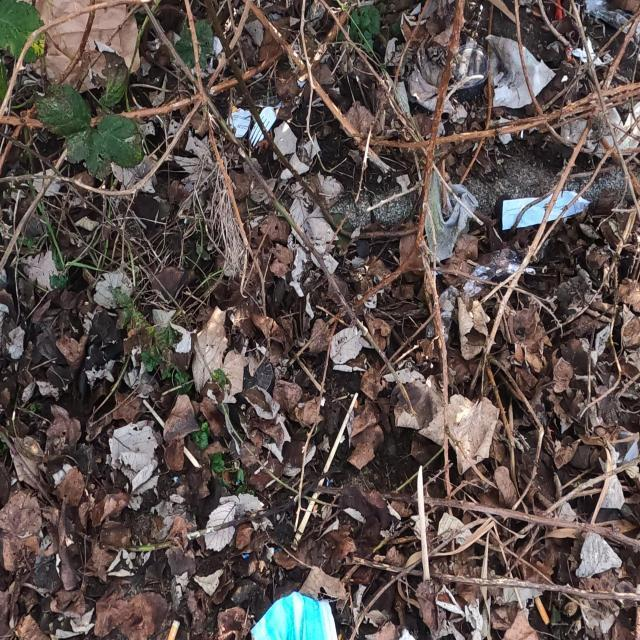Mask: (244, 591, 346, 638)
